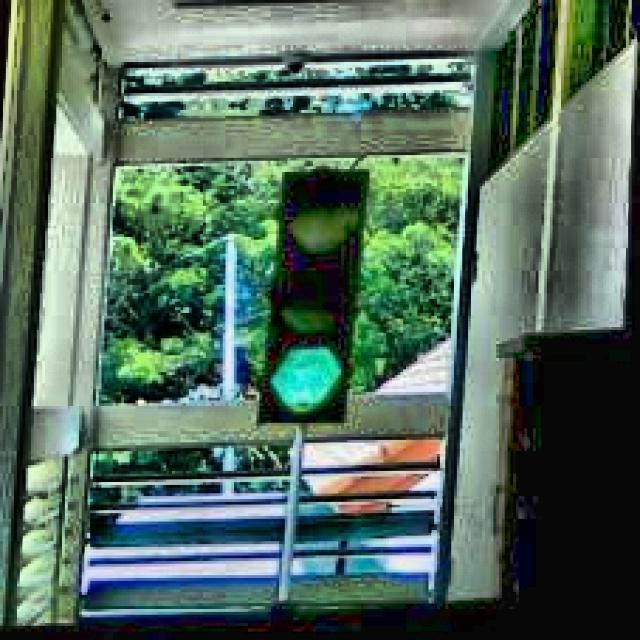green: (260, 169, 372, 434)
